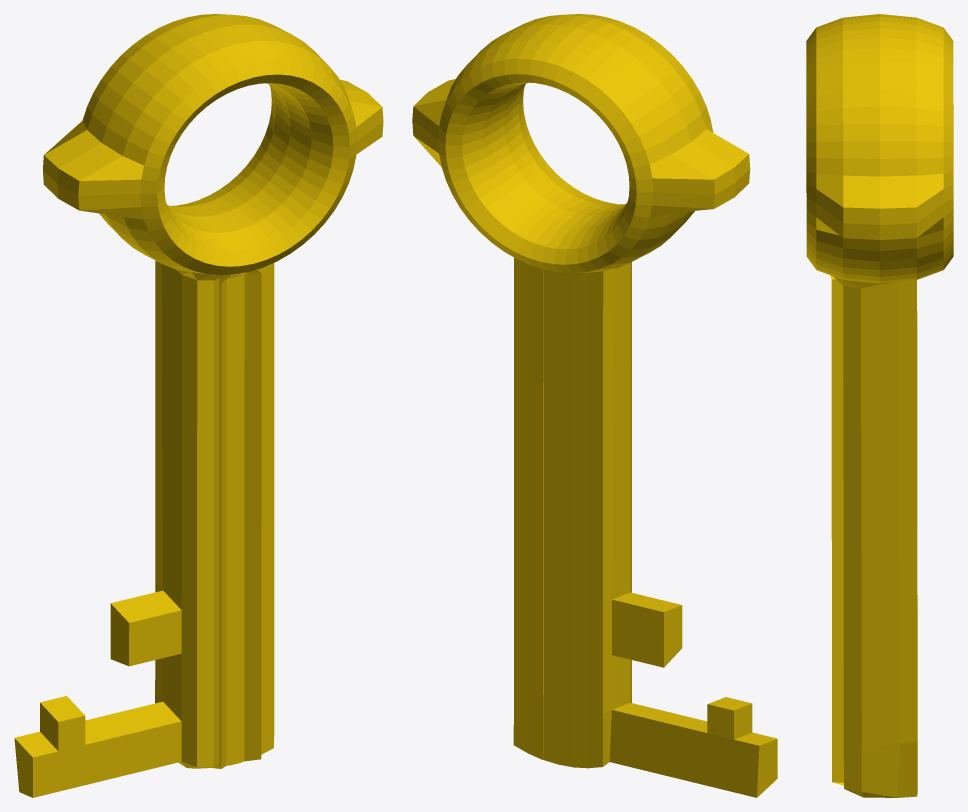
Rendered from The-key.fbx.
The picture shows the model from 3 angles, left to right: view 1: azimuth 30°, elevation 25°; view 2: azimuth 150°, elevation 25°; view 3: azimuth 270°, elevation 25°; orthographic projection. The views are drawn at different scales.
Visible parts, largest first — view 1: Torus; view 2: Torus; view 3: Torus.
Boxes of the visible parts, x1,y1,x2,y2 form: Torus: (14, 14, 383, 797); Torus: (412, 14, 777, 797); Torus: (806, 14, 953, 797).
Bounding box in the file's own units: 1.44 × 2.91 × 0.5131.
